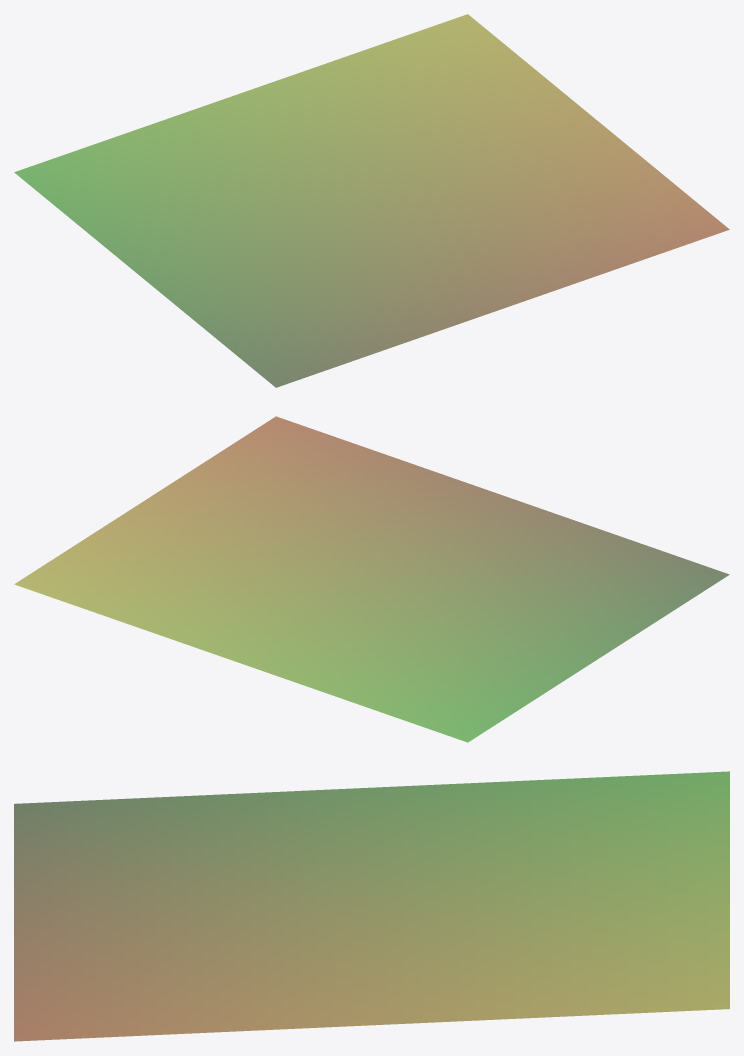
Rendered from coarse.gltf.
3 renders of one model, top to bottom at view 1: azimuth 30°, elevation 25°; view 2: azimuth 150°, elevation 25°; view 3: azimuth 270°, elevation 25°, orthographic. The views are drawn at different scales.
Size of the model in its own units: 200 by 30 by 200.
